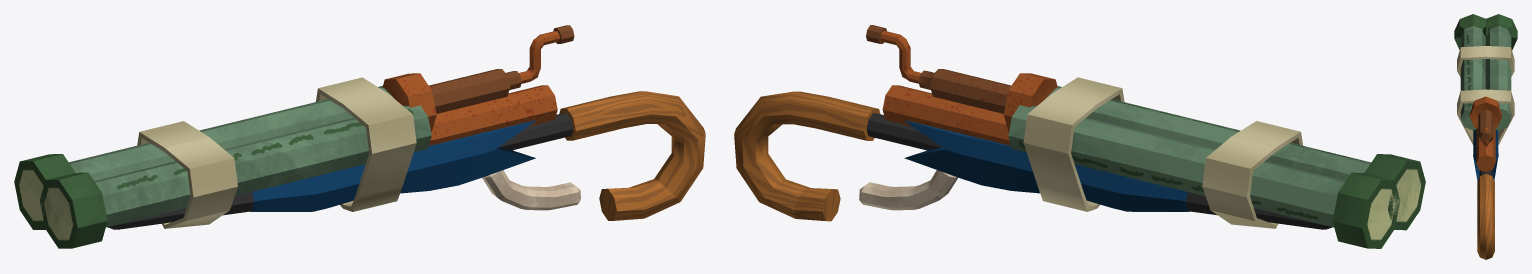
The model's file is UmbrellaShotgun.fbx.
3 renders of one model, left to right at view 1: azimuth 30°, elevation 25°; view 2: azimuth 150°, elevation 25°; view 3: azimuth 270°, elevation 25°, orthographic. The views are drawn at different scales.
Visible parts, largest first — view 1: Boca2, Paraguas1, Paraguas0, Boca1, Liston2, Liston1, CajaMusical2, CajaMusical1, Asa; view 2: Boca1, Paraguas1, Paraguas0, Boca2, Liston2, Liston1, CajaMusical2, CajaMusical1, Asa; view 3: Boca1, Boca2, Paraguas1, CajaMusical2, Liston2, Liston1, CajaMusical1, Paraguas0.
Part boxes in pixels (bbox=[...]): Boca2: bbox=[39, 105, 431, 248]; Paraguas1: bbox=[498, 91, 705, 220]; Paraguas0: bbox=[107, 120, 535, 229]; Boca1: bbox=[14, 85, 393, 229]; Liston2: bbox=[316, 77, 416, 211]; Liston1: bbox=[137, 121, 237, 228]; CajaMusical2: bbox=[382, 25, 574, 131]; CajaMusical1: bbox=[429, 85, 557, 145]; Asa: bbox=[482, 170, 580, 210]; Boca1: bbox=[1008, 105, 1400, 248]; Paraguas1: bbox=[734, 91, 941, 221]; Paraguas0: bbox=[904, 120, 1332, 229]; Boca2: bbox=[1047, 86, 1425, 230]; Liston2: bbox=[1023, 77, 1124, 211]; Liston1: bbox=[1202, 121, 1302, 228]; CajaMusical2: bbox=[866, 25, 1057, 131]; CajaMusical1: bbox=[882, 85, 1010, 145]; Asa: bbox=[859, 170, 957, 210]; Boca1: bbox=[1482, 14, 1517, 130]; Boca2: bbox=[1454, 14, 1489, 130]; Paraguas1: bbox=[1477, 170, 1494, 259]; CajaMusical2: bbox=[1469, 96, 1501, 146]; Liston2: bbox=[1457, 89, 1514, 144]; Liston1: bbox=[1457, 46, 1514, 77]; CajaMusical1: bbox=[1476, 128, 1495, 171]; Paraguas0: bbox=[1473, 59, 1498, 180].
Bounding box in the file's own units: 74.32 × 22.71 × 12.43.
Materials: 8 (8 with a texture image).
